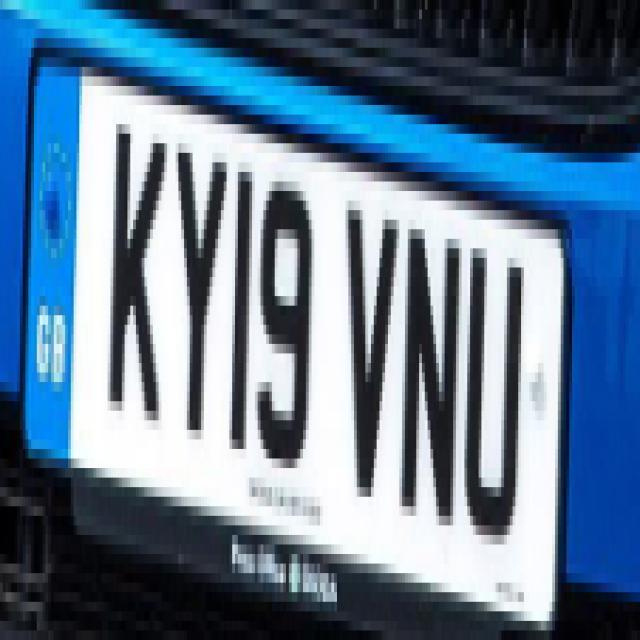9: (258, 180, 312, 470)
I: (232, 148, 256, 462)
K: (108, 109, 169, 443)
N: (402, 211, 460, 534)
U: (464, 231, 528, 538)
V: (345, 189, 398, 509)
Y: (175, 135, 225, 447)
